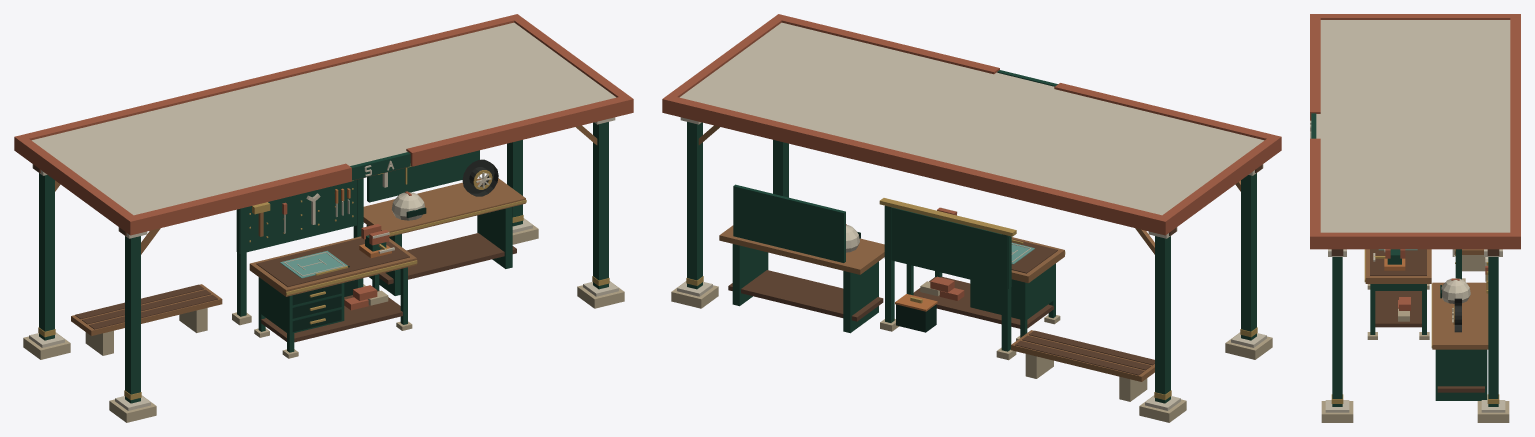
The model's file is courtyard-kit.glb.
3 views of the same model, side by side, from view 1: azimuth 30°, elevation 25°; view 2: azimuth 150°, elevation 25°; view 3: azimuth 270°, elevation 25° (orthographic). The views are drawn at different scales.
Visible parts, largest first — view 1: arrival, maker; view 2: arrival, maker; view 3: arrival, maker.
Part boxes in pixels (x1,y1,x2,y2): arrival: [14, 14, 633, 422]; maker: [232, 178, 417, 358]; arrival: [662, 14, 1281, 422]; maker: [879, 198, 1065, 360]; arrival: [1310, 14, 1520, 422]; maker: [1364, 249, 1465, 339].
Bounding box in the file's own units: 10 × 3.92 × 4.
